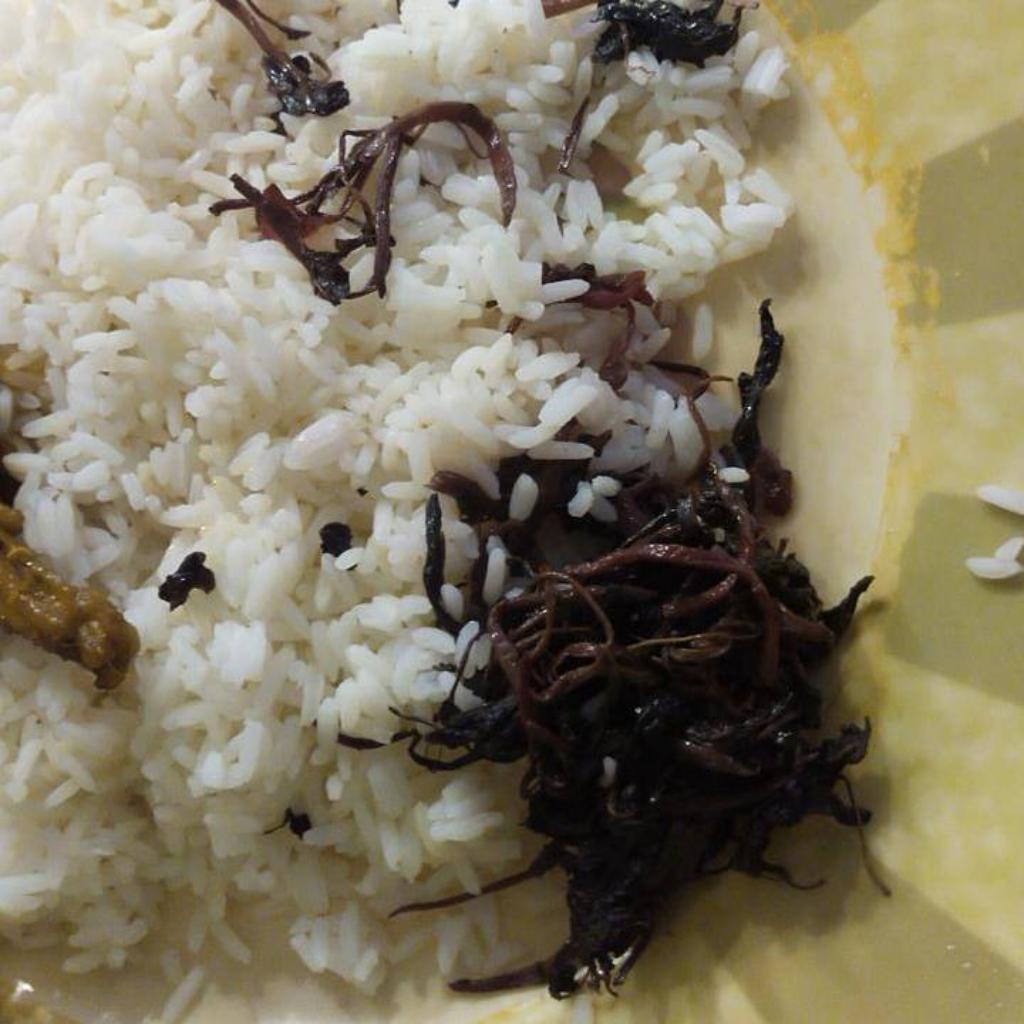rice: (0, 4, 790, 988)
shak: (411, 291, 868, 1003)
